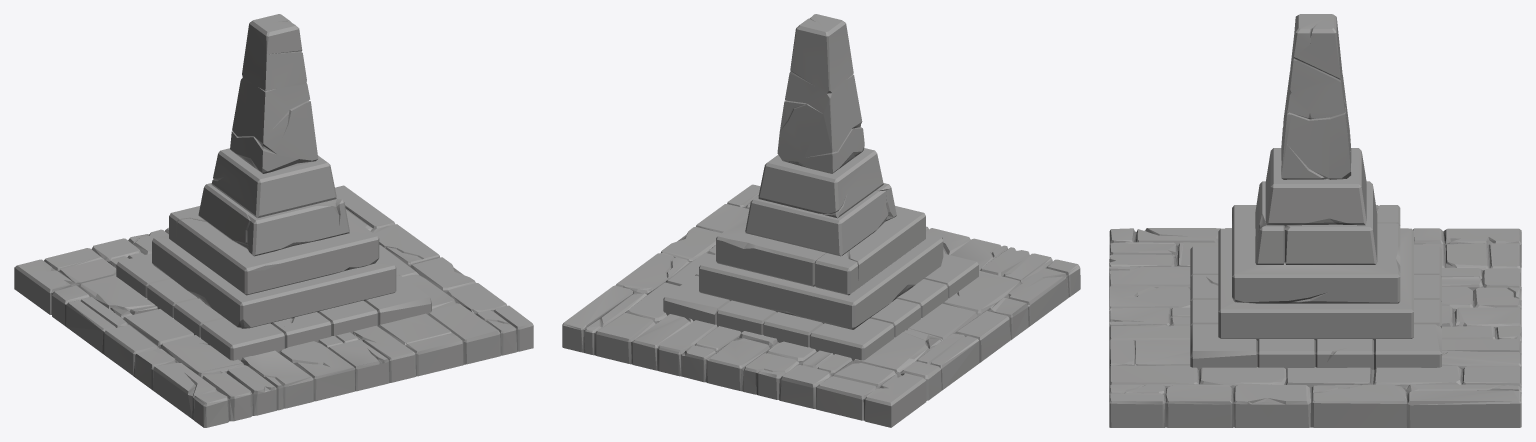
Rendered from SM_Props_ParkDecor_01.fbx.
3 renders of one model, left to right at view 1: azimuth 30°, elevation 25°; view 2: azimuth 150°, elevation 25°; view 3: azimuth 270°, elevation 25°, orthographic. The views are drawn at different scales.
Visible parts, largest first — view 1: SM_Props_ParkDecor_01; view 2: SM_Props_ParkDecor_01; view 3: SM_Props_ParkDecor_01.
Part boxes in pixels (x1,y1,x2,y2): SM_Props_ParkDecor_01: (14,14,533,427); SM_Props_ParkDecor_01: (562,14,1080,427); SM_Props_ParkDecor_01: (1109,14,1521,427).
Bounding box in the file's own units: 3.55 × 3.04 × 3.55.
